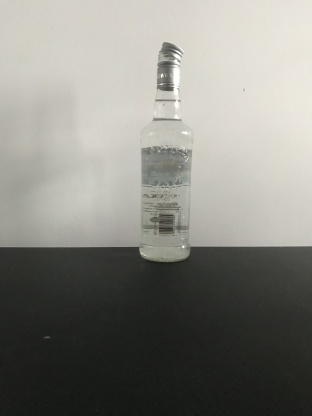nakretka: (155, 39, 184, 91)
